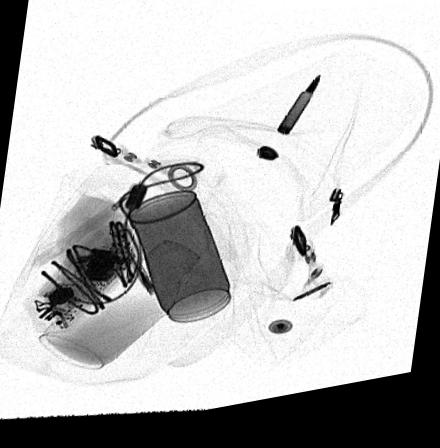Bullet: (277, 85, 321, 145)
